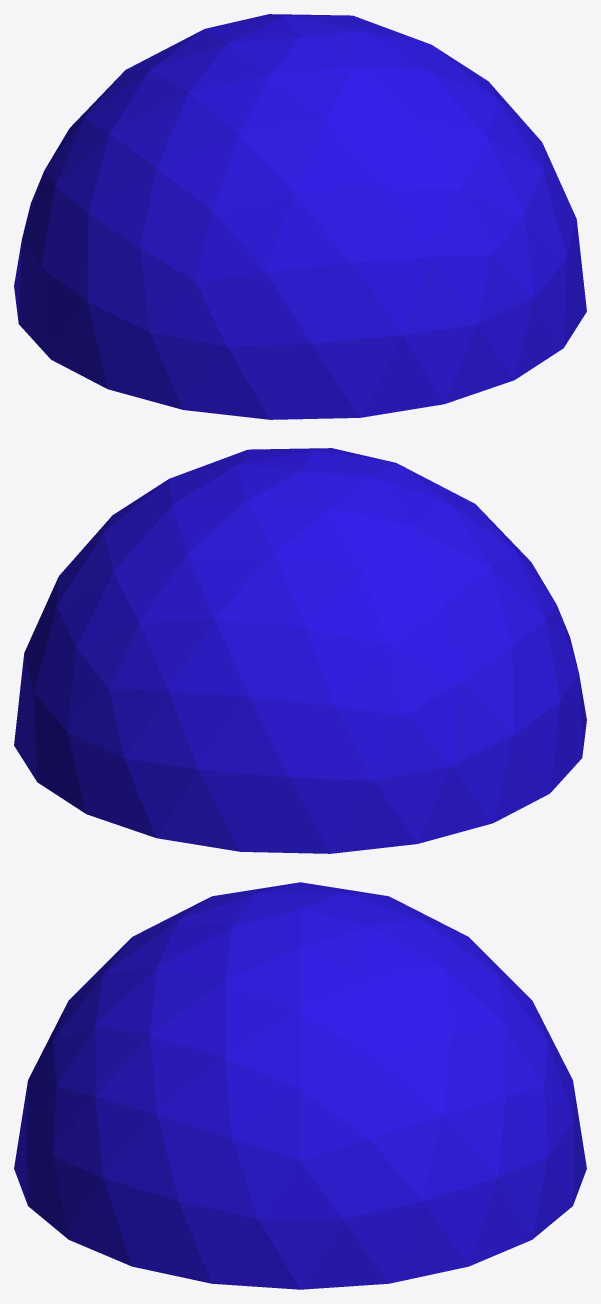
Rendered from Dome.fbx.
The picture shows the model from 3 angles, top to bottom: view 1: azimuth 30°, elevation 25°; view 2: azimuth 150°, elevation 25°; view 3: azimuth 270°, elevation 25°; orthographic projection.
Visible parts, largest first — view 1: Icosphere; view 2: Icosphere; view 3: Icosphere.
Boxes of the visible parts, x1,y1,x2,y2 form: Icosphere: (14, 14, 586, 419); Icosphere: (14, 448, 586, 853); Icosphere: (14, 882, 586, 1289).
Bounding box in the file's own units: 3000 × 1501 × 3000.
